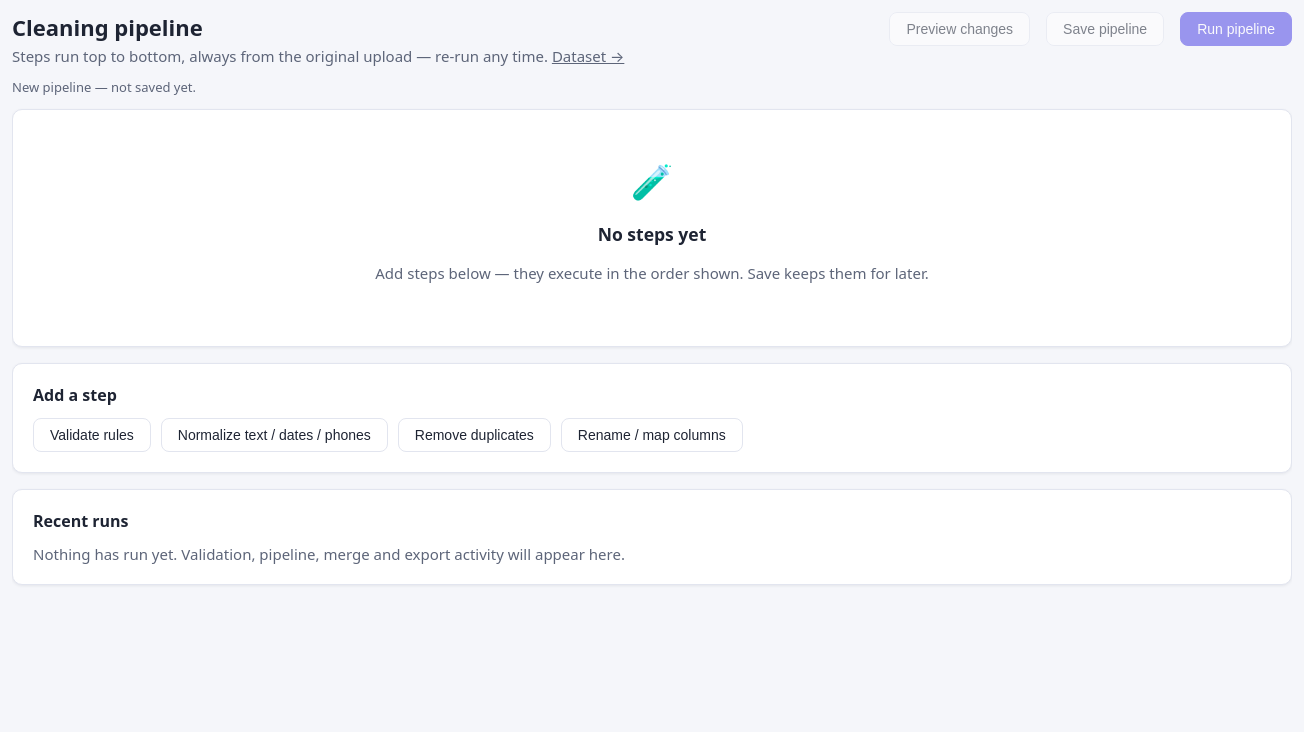
Test: PipelinePage (editor) › surfaces backend pipeline errors
Expected: the element with test id "pipeline-empty" is shown, [12,109,1292,347]
Click the button "Remove duplicates" at (474, 435), box [398,418,551,452]
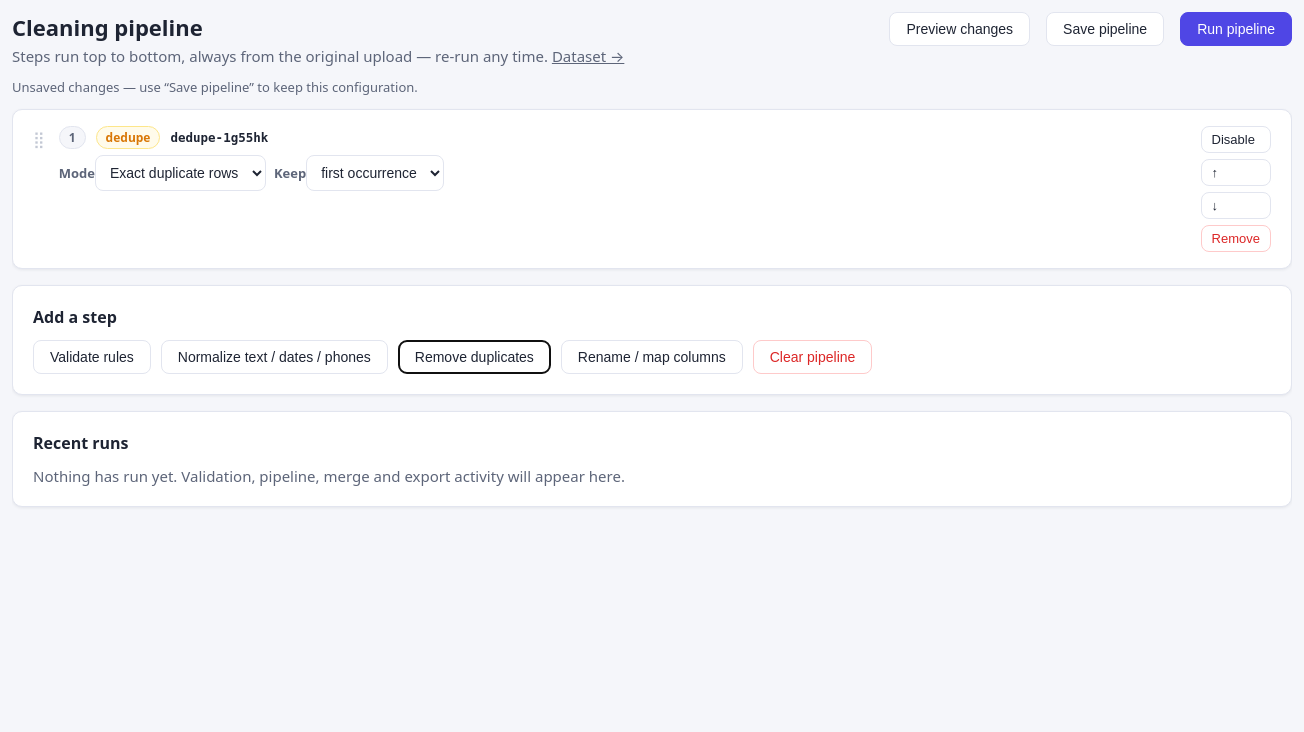
Click the button "Run pipeline" at (1236, 29), box [1180,12,1292,46]
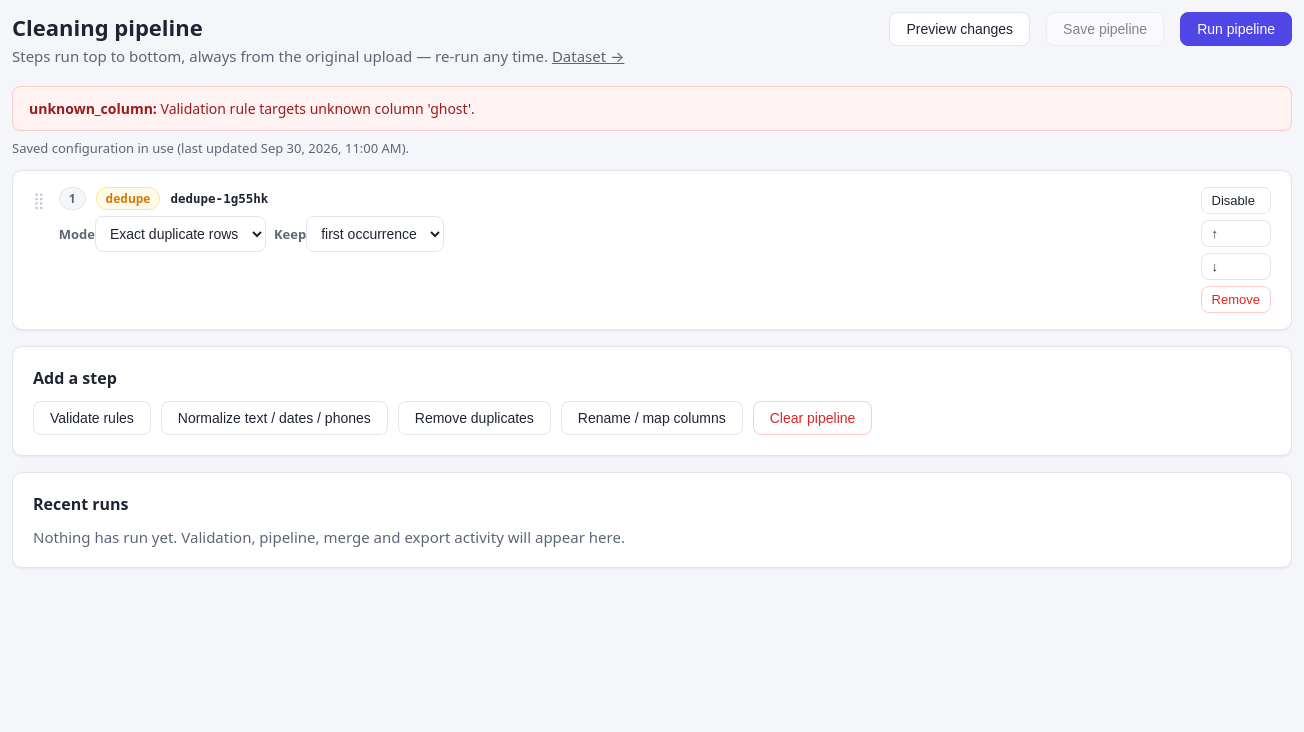
Now the message shows "unknown_column", box [29,99,160,118]
